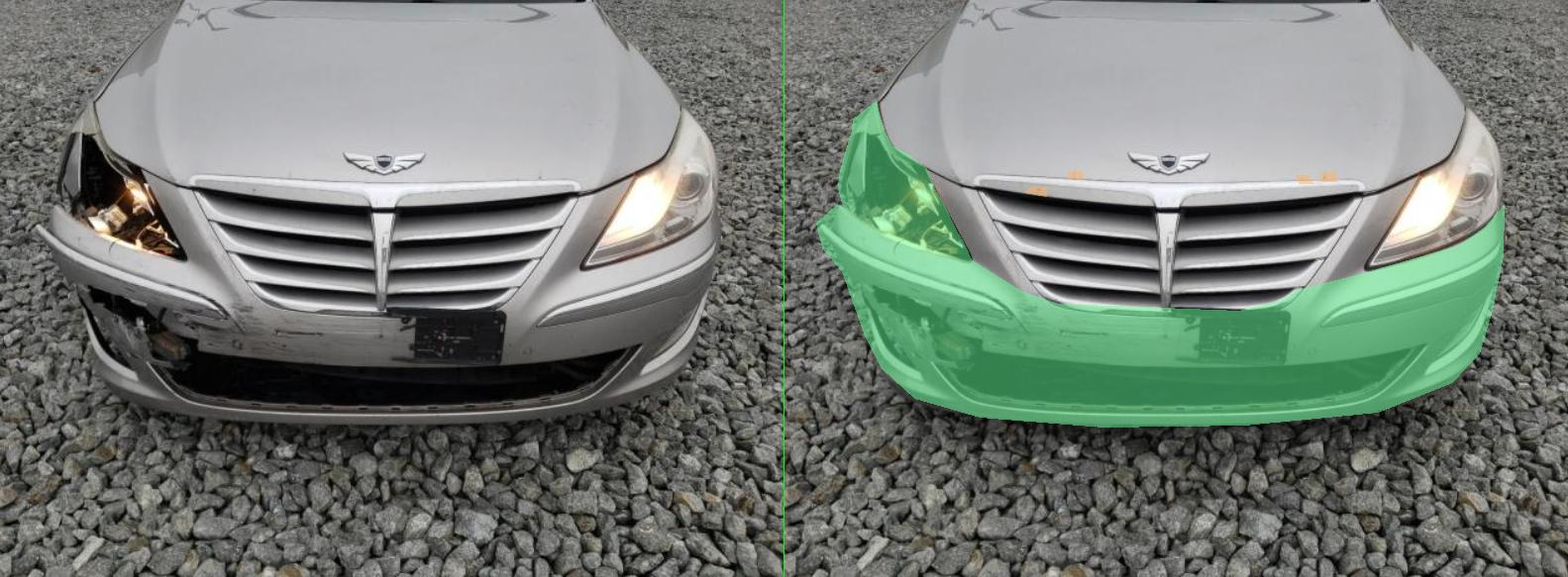Broken part: (63, 204, 1439, 427), (107, 101, 375, 261)
Missing part: (357, 349, 1255, 415), (464, 311, 1011, 370), (155, 285, 357, 397)
Paint chip: (480, 186, 523, 196), (1072, 171, 1104, 181), (1023, 175, 1059, 183), (567, 171, 599, 179)
Scratch: (311, 297, 476, 355), (214, 238, 238, 257), (367, 307, 412, 314), (246, 285, 270, 292)
